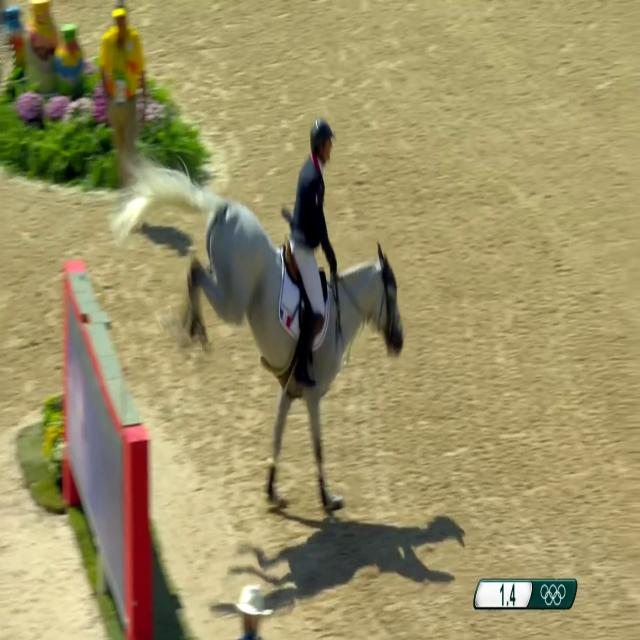Horse Jumping: (110, 155, 424, 532)
Horse Rider: (284, 60, 348, 410)
